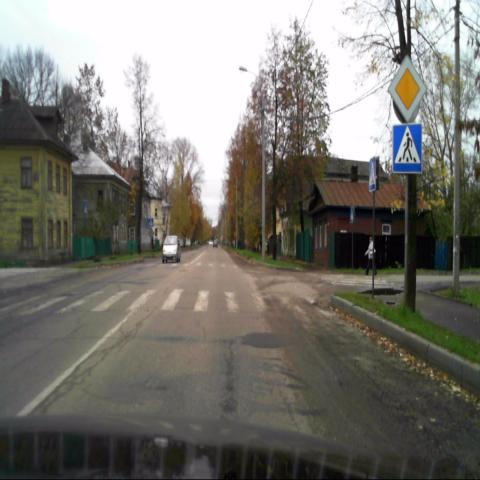2_1: (388, 55, 426, 122)
5_19_1: (393, 123, 423, 175), (368, 158, 379, 191)
